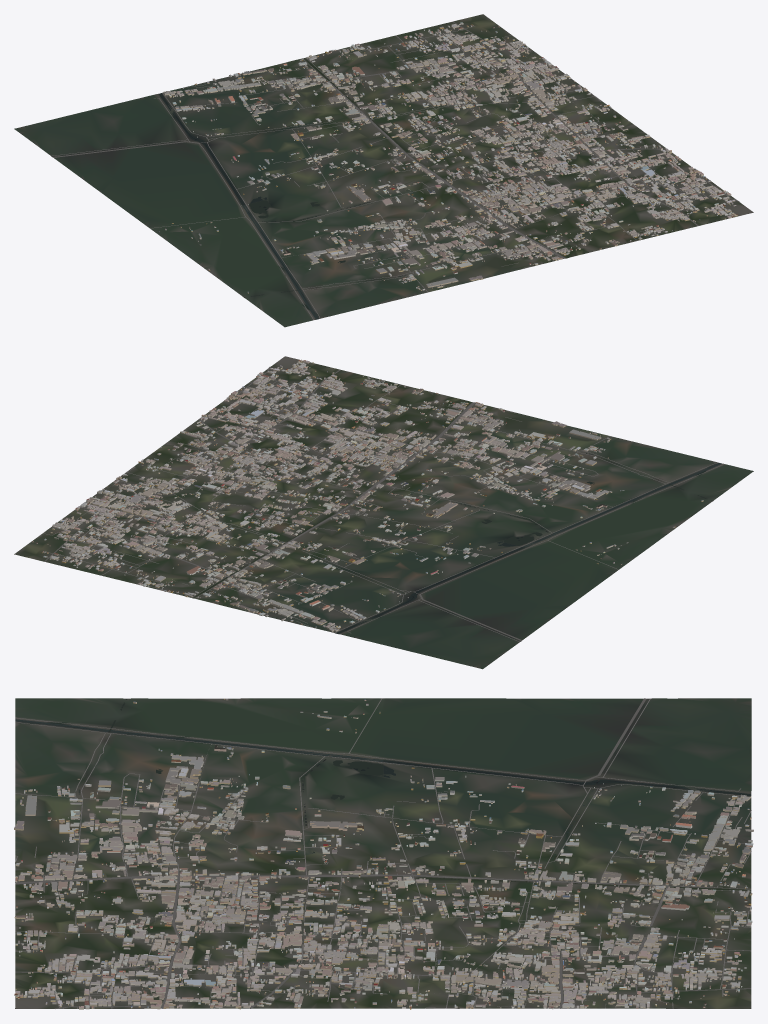
The picture shows the model from 3 angles, top to bottom: view 1: azimuth 30°, elevation 25°; view 2: azimuth 150°, elevation 25°; view 3: azimuth 270°, elevation 25°; orthographic projection. The views are drawn at different scales.
Visible parts, largest first — view 1: ground, buildings, roads, water; view 2: ground, buildings, roads, water; view 3: ground, buildings, roads, water.
Part boxes in pixels (x1=…): ground: x1=14, y1=14, x2=753, y2=327; buildings: x1=159, y1=22, x2=737, y2=293; roads: x1=52, y1=21, x2=739, y2=319; water: x1=159, y1=64, x2=408, y2=319; ground: x1=14, y1=356, x2=753, y2=669; buildings: x1=32, y1=359, x2=703, y2=632; roads: x1=43, y1=362, x2=724, y2=641; water: x1=202, y1=453, x2=721, y2=633; ground: x1=15, y1=698, x2=751, y2=1008; buildings: x1=14, y1=698, x2=753, y2=1009; roads: x1=15, y1=698, x2=751, y2=1008; water: x1=15, y1=699, x2=751, y2=889.
Bounding box in the file's own units: 2806 × 23.72 × 2816.
